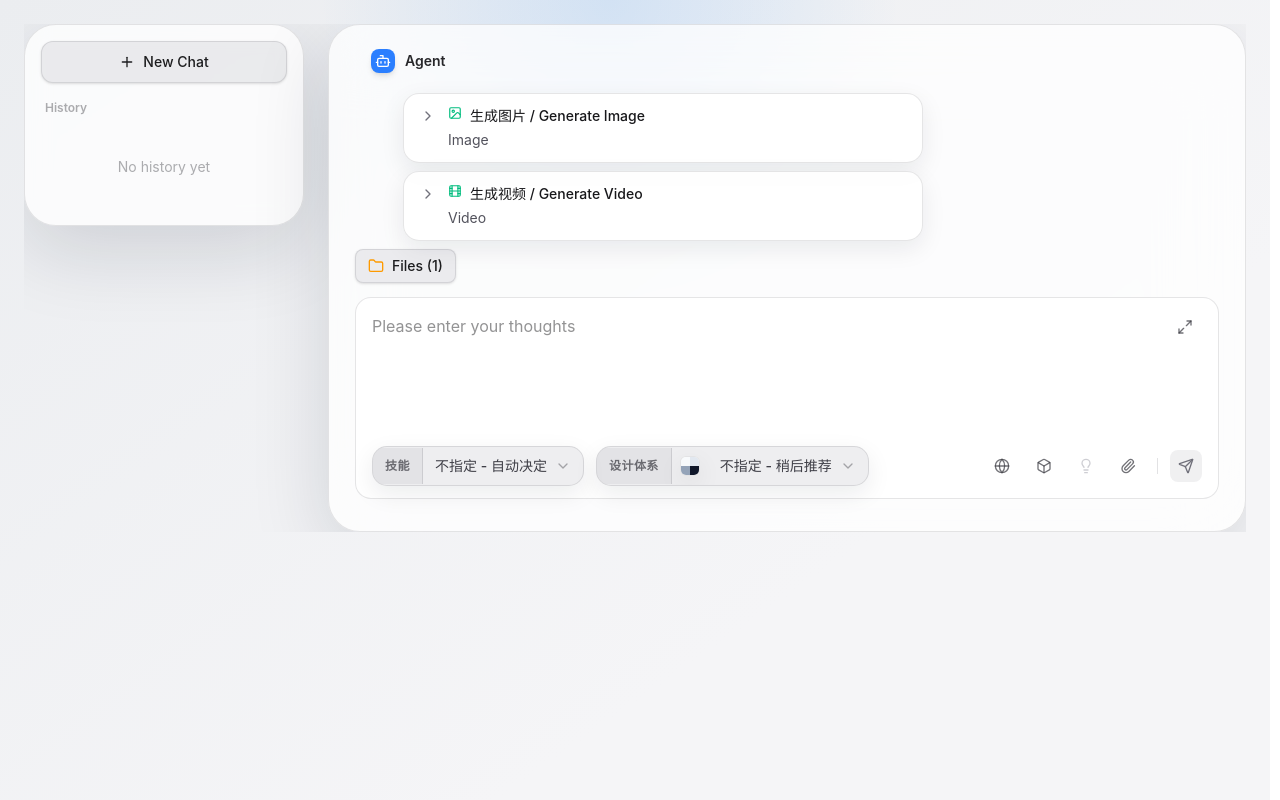
Test: ChatHomePage previews › shows only current workspace files in the session files modal instead of duplicating generated blocks
Click the button "Files (1)" at (406, 266), box [355,249,456,283]
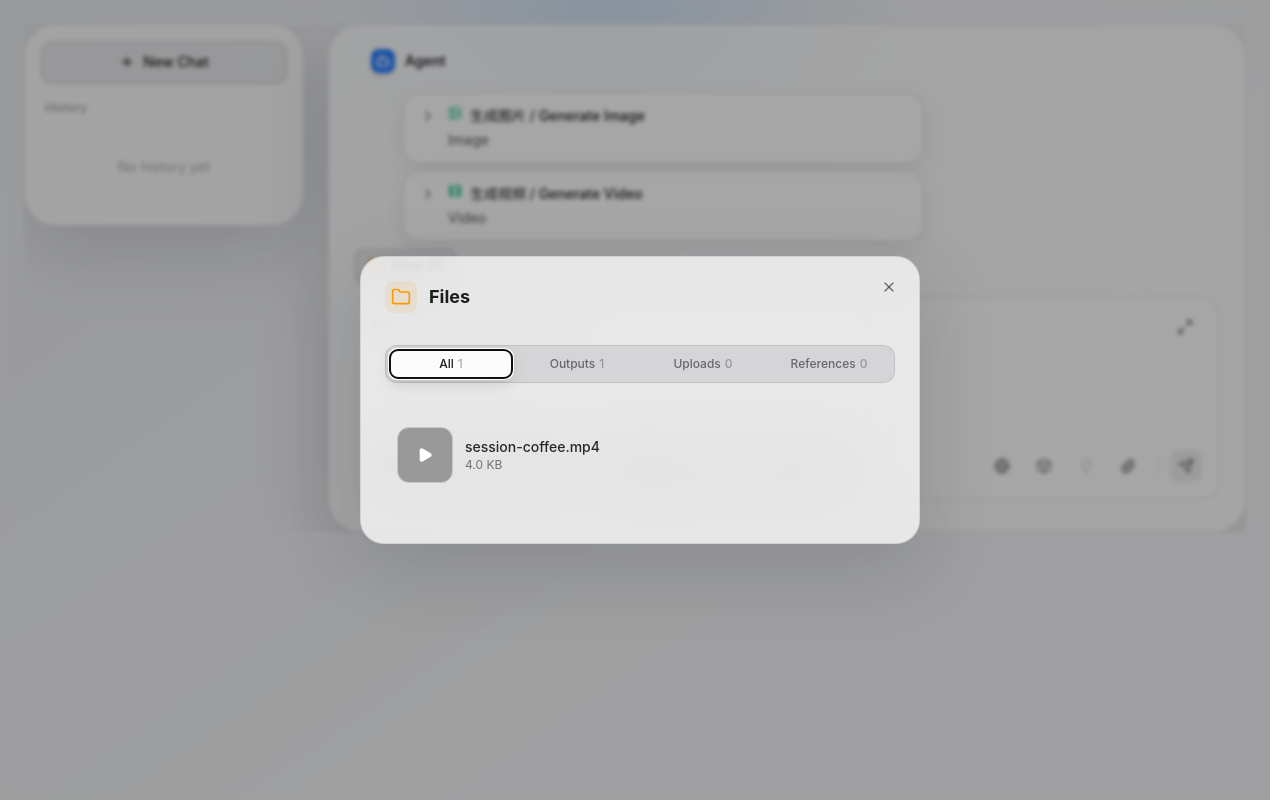
Expected: the text "session-coffee.mp4" is shown, [465,438,600,455]
